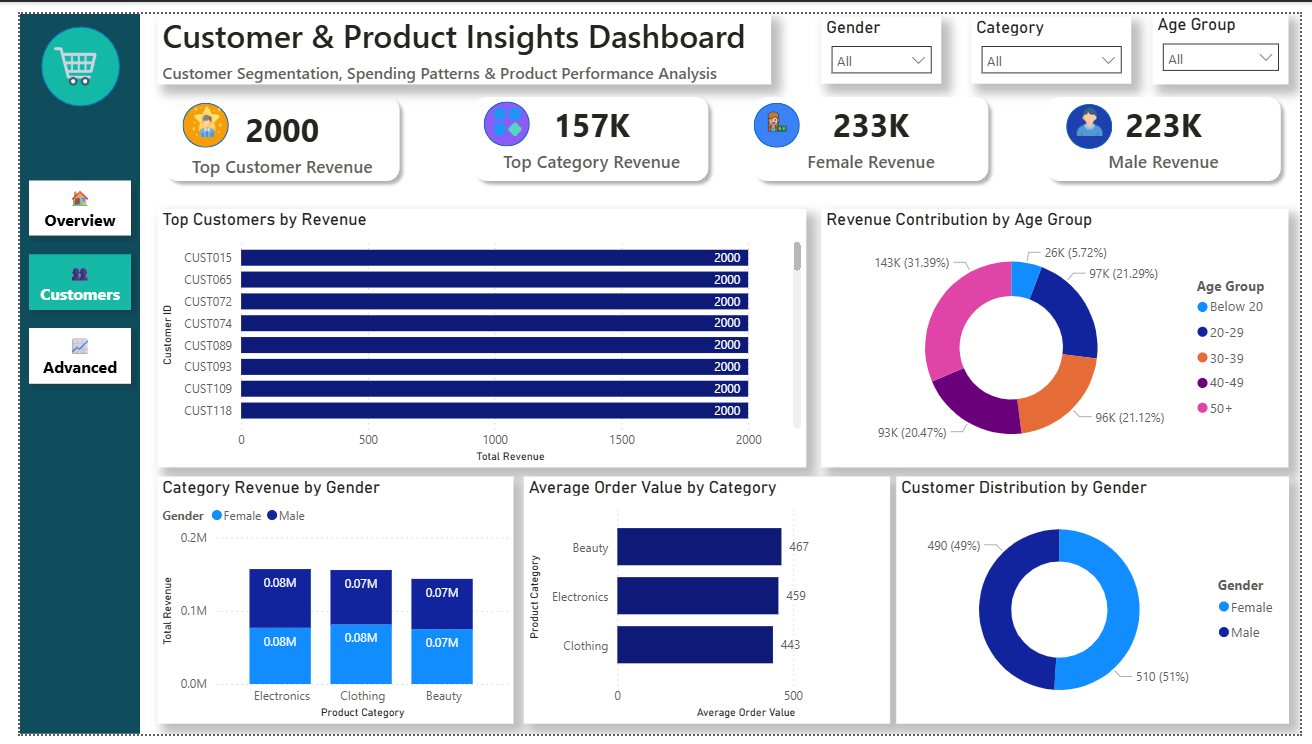

The page's visual inventory and layout, read from the dashboard file:
{"tool":"powerbi","page":{"name":"Customers","canvas":[1280,720],"ordinal":1},"visuals":[{"type":"shape","box":[137.2,75.6,250,100],"z":0},{"type":"shape","box":[0,0,120,719.8],"z":1000},{"type":"card","fields":{"Values":["retail_sales_dataset.Top Customer Revenue"]},"box":[162.5,80,200,95],"z":2000},{"type":"clusteredBarChart","title":"Top Customers by Revenue","fields":{"Category":["retail_sales_dataset.Customer ID"],"Y":["retail_sales_dataset.Total Revenue"]},"box":[137.5,195,648.8,258.8],"z":3000},{"type":"donutChart","title":"Revenue Contribution by Age Group","fields":{"Category":["retail_sales_dataset.Age Group"],"Y":["retail_sales_dataset.Total Revenue"]},"box":[801.2,195,467.5,258.8],"z":4000},{"type":"columnChart","title":"Category Revenue by Gender","fields":{"Category":["retail_sales_dataset.Product Category"],"Series":["retail_sales_dataset.Gender"],"Y":["retail_sales_dataset.Total Revenue"]},"box":[137.5,462.5,356.2,247.5],"z":5000},{"type":"clusteredBarChart","title":"Average Order Value by Category","fields":{"Category":["retail_sales_dataset.Product Category"],"Y":["retail_sales_dataset.Average Order Value"]},"box":[503.8,462.5,366.2,247.5],"z":6000},{"type":"donutChart","title":"Customer Distribution by Gender","fields":{"Category":["retail_sales_dataset.Gender"],"Y":["retail_sales_dataset.Customer Count"]},"box":[876.2,462.5,392.5,247.5],"z":7000},{"type":"slicer","title":"Gender","fields":{"Values":["retail_sales_dataset.Gender"]},"box":[801.2,2.5,120,67.5],"z":8000},{"type":"slicer","title":"Category","fields":{"Values":["retail_sales_dataset.Product Category"]},"box":[951.2,2.5,160,67.5],"z":9000},{"type":"slicer","title":"Age Group","fields":{"Values":["retail_sales_dataset.Age Group"]},"box":[1132.5,0,136.2,70],"z":10000},{"type":"textbox","title":"Customer & Product Insights Dashboard","box":[137.5,0,613.8,70],"z":11000},{"type":"shape","box":[21.2,12.5,78.8,80],"z":12000},{"type":"image","box":[21.2,31.2,67.5,42.5],"z":13000},{"type":"actionButton","box":[0,157.5,120,73],"z":14000},{"type":"actionButton","box":[0,231.2,120,73.8],"z":15000},{"type":"actionButton","box":[0,305,120,73.8],"z":16000},{"type":"shape","box":[1018.8,75,250,100],"z":17000},{"type":"shape","box":[446.2,75,250,100],"z":18000},{"type":"shape","box":[726.2,75,250,100],"z":19000},{"type":"card","fields":{"Values":["retail_sales_dataset.Highest Category Revenue"]},"box":[471.2,75,201.2,95],"z":20000},{"type":"card","fields":{"Values":["retail_sales_dataset.Female Revenue"]},"box":[751.2,75,200,95],"z":21000},{"type":"card","fields":{"Values":["retail_sales_dataset.Male Revenue"]},"box":[1043.8,75,200,95],"z":22000},{"type":"shape","box":[162.5,88.8,46.2,45],"z":23000},{"type":"image","box":[156.2,92.5,61.2,30],"z":24000},{"type":"shape","box":[463.5,88,46,45],"z":25000},{"type":"image","box":[465,92.5,45,30],"z":26000},{"type":"shape","box":[733.5,89,46,45],"z":27000},{"type":"image","box":[726.2,92.5,61.2,30],"z":28000},{"type":"shape","box":[1046.5,90,46,45],"z":29000},{"type":"image","box":[1038.8,92.5,61.2,30],"z":30000}]}

Visuals, with their boxes on the page's 1280x720 design canvas (x1, y1, x2, y2). These are canvas units, not pixel positions in the 1312x744 screenshot, which may show the page scaled, cropped or inside an application window:
shape: 137,76,387,176
shape: 0,0,120,720
card - retail_sales_dataset.Top Customer Revenue: 162,80,362,175
"Top Customers by Revenue" clusteredBarChart: 138,195,786,454
"Revenue Contribution by Age Group" donutChart: 801,195,1269,454
"Category Revenue by Gender" columnChart: 138,462,494,710
"Average Order Value by Category" clusteredBarChart: 504,462,870,710
"Customer Distribution by Gender" donutChart: 876,462,1269,710
"Gender" slicer: 801,2,921,70
"Category" slicer: 951,2,1111,70
"Age Group" slicer: 1132,0,1269,70
"Customer & Product Insights Dashboard" textbox: 138,0,751,70
shape: 21,12,100,92
image: 21,31,89,74
actionButton: 0,158,120,230
actionButton: 0,231,120,305
actionButton: 0,305,120,379
shape: 1019,75,1269,175
shape: 446,75,696,175
shape: 726,75,976,175
card - retail_sales_dataset.Highest Category Revenue: 471,75,672,170
card - retail_sales_dataset.Female Revenue: 751,75,951,170
card - retail_sales_dataset.Male Revenue: 1044,75,1244,170
shape: 162,89,209,134
image: 156,92,217,122
shape: 464,88,510,133
image: 465,92,510,122
shape: 734,89,780,134
image: 726,92,787,122
shape: 1046,90,1092,135
image: 1039,92,1100,122
